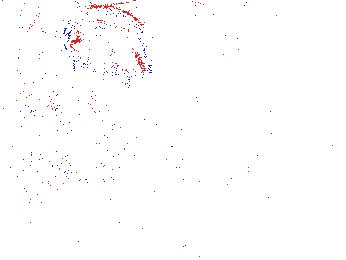moon jellyfish: (62, 5, 156, 79), (16, 12, 72, 117), (184, 35, 265, 94)
